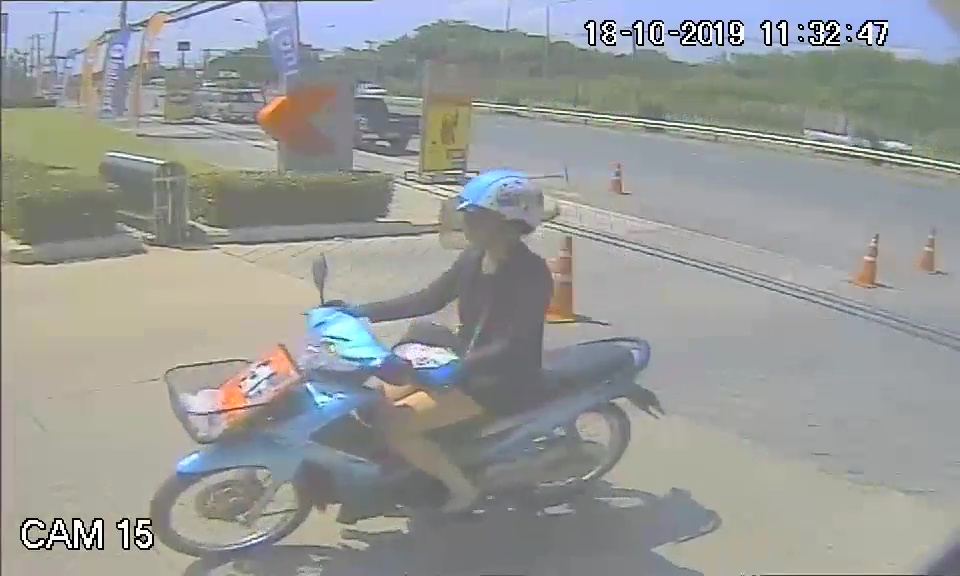motorcycle: (151, 304, 662, 560)
